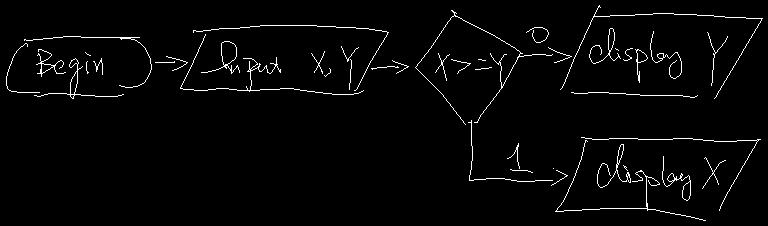arrow: (468, 120, 567, 185), (517, 47, 571, 62), (371, 60, 408, 73), (155, 56, 187, 70)
data: (560, 5, 762, 98), (555, 137, 760, 220), (180, 25, 388, 94)
decision: (415, 10, 522, 124)
terminator: (6, 36, 151, 96)
text: (597, 144, 725, 210), (589, 28, 727, 85), (201, 41, 358, 91), (36, 49, 102, 98), (435, 53, 506, 87), (507, 143, 532, 172), (526, 27, 548, 42)
